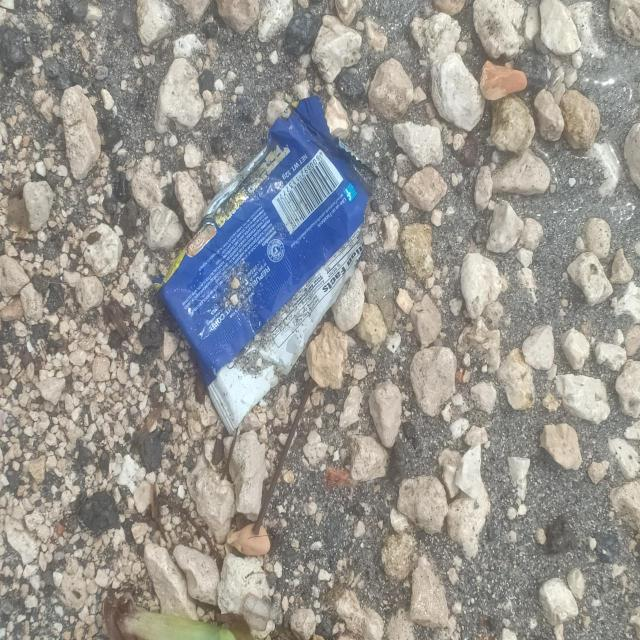plastic_waste: (154, 95, 378, 435)
